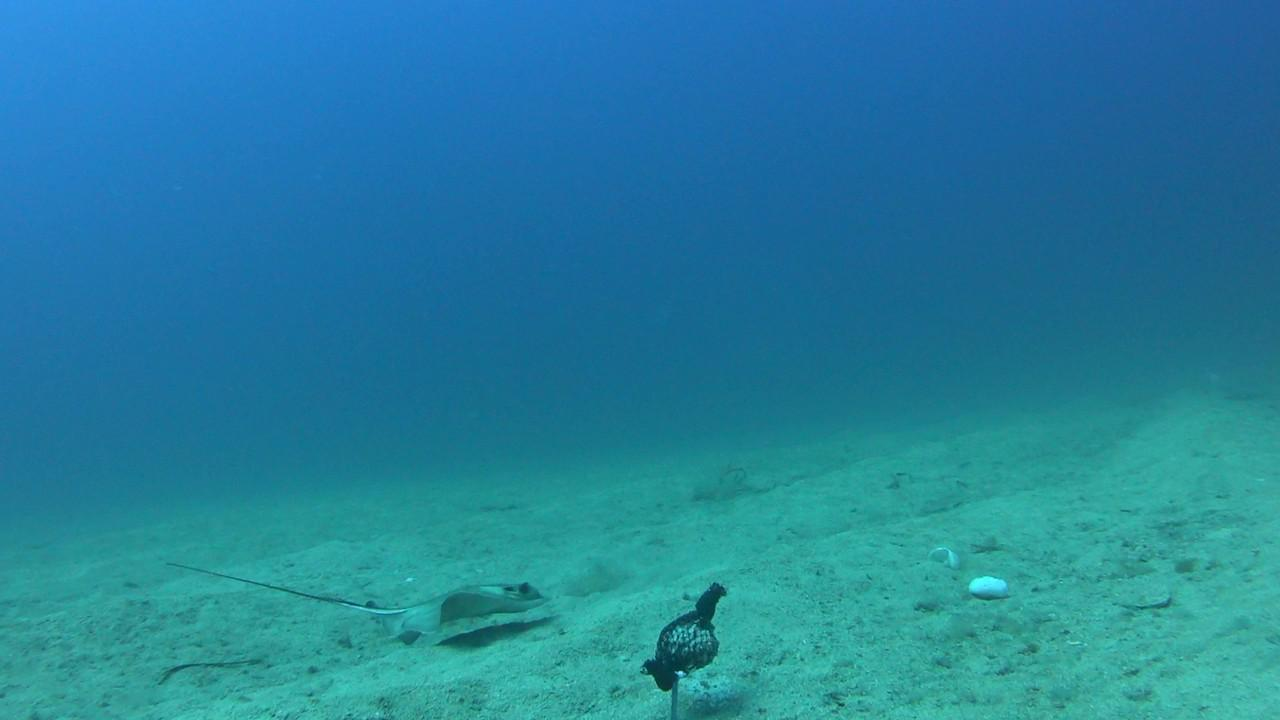myliobatis: (164, 556, 562, 651)
